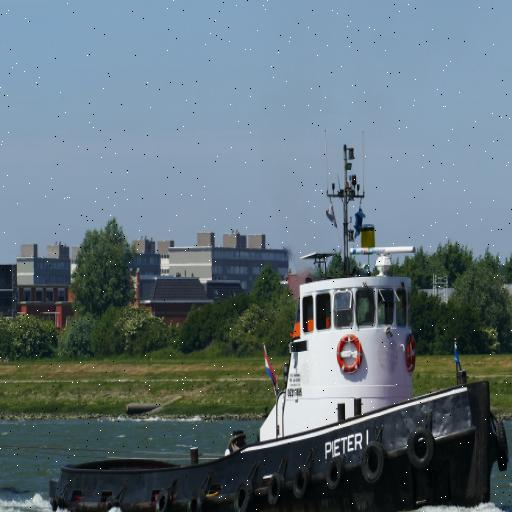tugboat: (46, 127, 512, 512)
